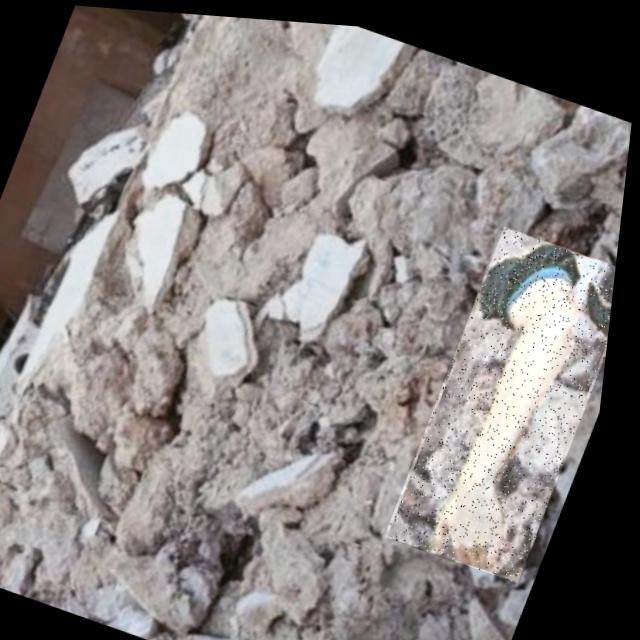Person in Rubble: (393, 212, 624, 576)
